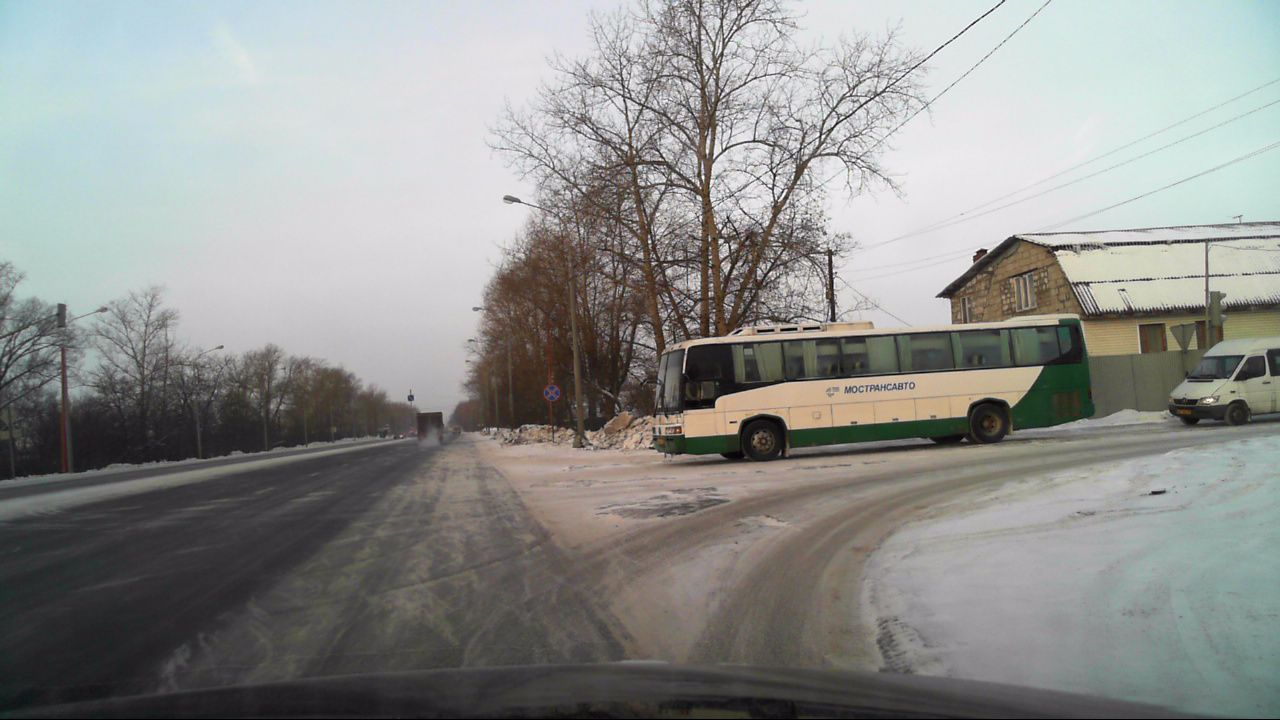No Parking: (542, 382, 560, 401)
